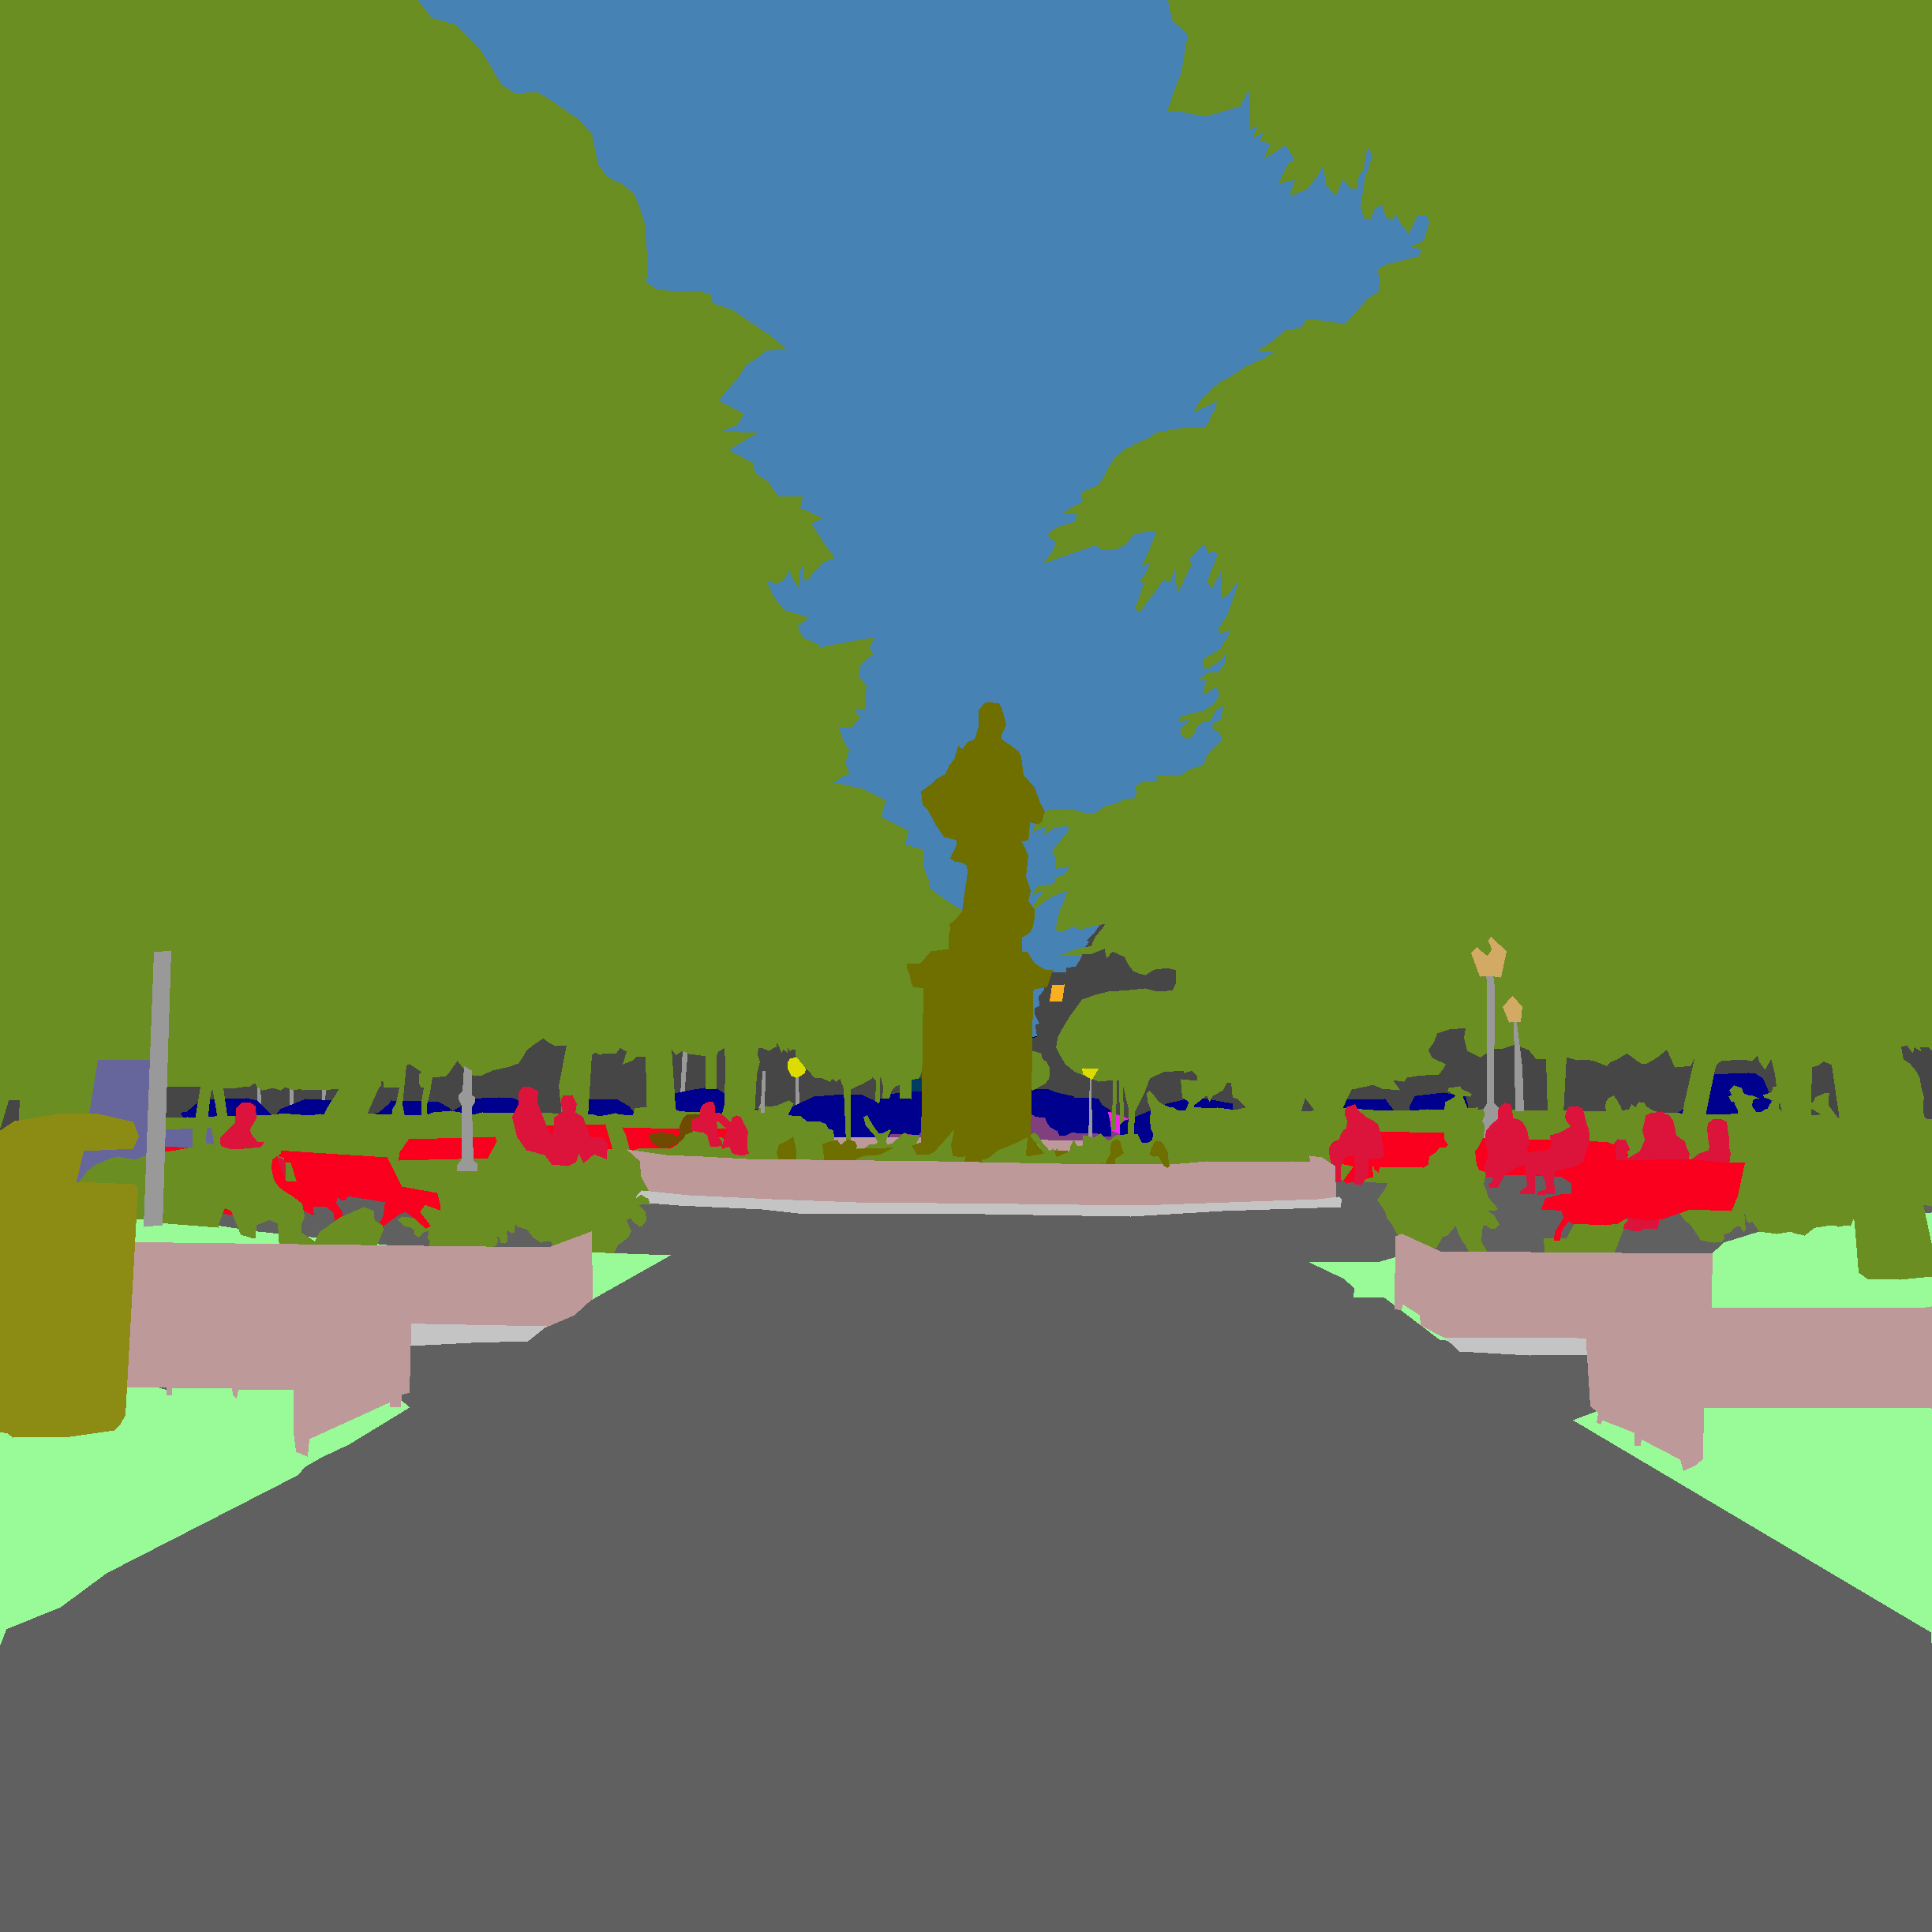human--person--individual: (1519, 1106, 1589, 1194), (512, 1087, 578, 1166), (220, 1103, 285, 1178), (1329, 1104, 1383, 1185), (1485, 1103, 1529, 1188), (553, 1095, 607, 1163), (1616, 1111, 1676, 1159), (691, 1102, 736, 1146), (1692, 1119, 1730, 1162), (721, 1115, 748, 1155)
object--bench: (165, 1147, 440, 1228), (1541, 1159, 1744, 1240), (1475, 1138, 1627, 1193), (1331, 1132, 1447, 1183), (399, 1136, 496, 1160), (622, 1127, 727, 1150), (547, 1124, 612, 1148)
object--sign--store: (1050, 984, 1064, 1001)
object--street-light: (1471, 937, 1506, 977), (1503, 996, 1522, 1022)
object--support--pole: (144, 950, 170, 1226), (1482, 976, 1498, 1137), (457, 1066, 477, 1170), (1514, 1022, 1523, 1110), (758, 1071, 765, 1113), (680, 1051, 687, 1091), (1088, 1079, 1091, 1136), (257, 1088, 260, 1103), (796, 1077, 799, 1104), (322, 1090, 325, 1099), (290, 1089, 293, 1104)
object--traffic-sign--front: (788, 1057, 805, 1077), (1082, 1068, 1098, 1079)
object--trash-can: (0, 1114, 138, 1437)
object--vehicle--bus: (912, 1078, 921, 1091)
object--vehicle--car: (1120, 1099, 1233, 1142), (788, 1095, 889, 1136), (1709, 1073, 1770, 1109), (1058, 1097, 1110, 1136), (675, 1088, 757, 1113), (181, 1098, 271, 1117), (879, 1097, 921, 1134), (889, 1091, 921, 1132), (374, 1100, 451, 1114), (453, 1097, 518, 1114), (1410, 1092, 1467, 1110), (1678, 1102, 1764, 1114), (277, 1099, 331, 1114), (588, 1099, 633, 1115), (1343, 1099, 1393, 1110)
